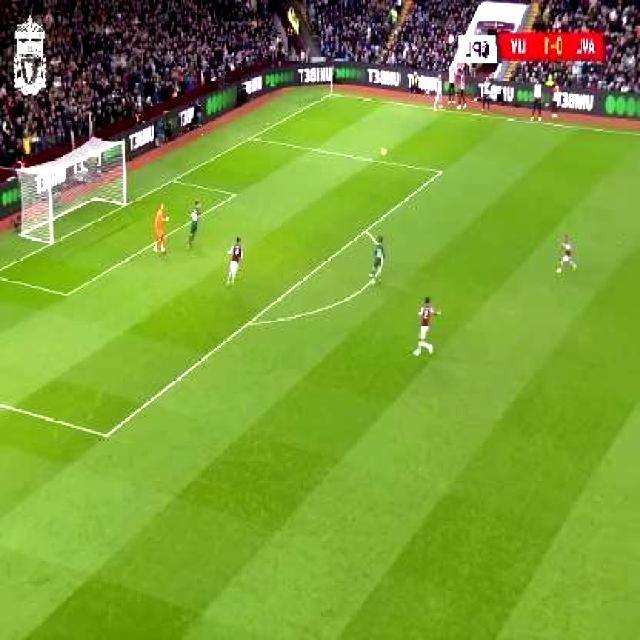bigarea_bottom_inner: (97, 422, 117, 448)
bigarea_top_inner: (434, 162, 449, 180)
bigarea_top_outter: (246, 129, 259, 143)
bottom_arc_area_intersection: (241, 312, 257, 332)
corner: (326, 86, 343, 100)
smallarea_bottom_inner: (58, 280, 77, 306)
smallarea_top_inner: (229, 184, 243, 202)
smallarea_top_outter: (166, 170, 180, 188)
top_arc_area_intersection: (358, 221, 372, 237)
